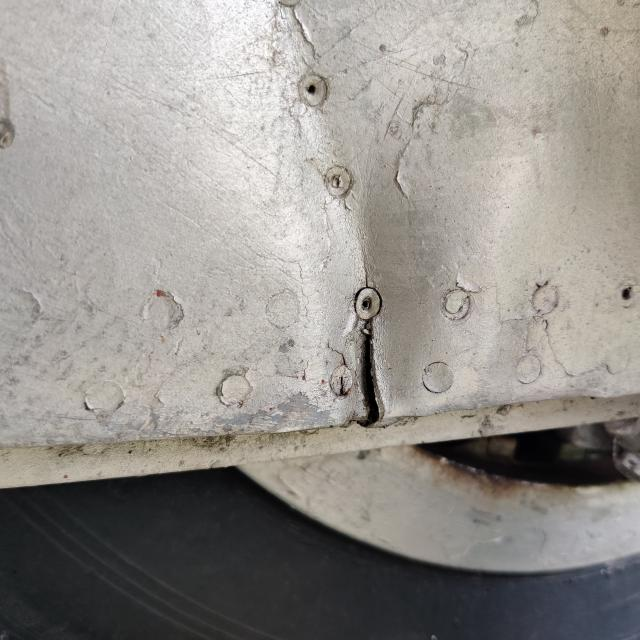crack: (324, 308, 416, 438)
